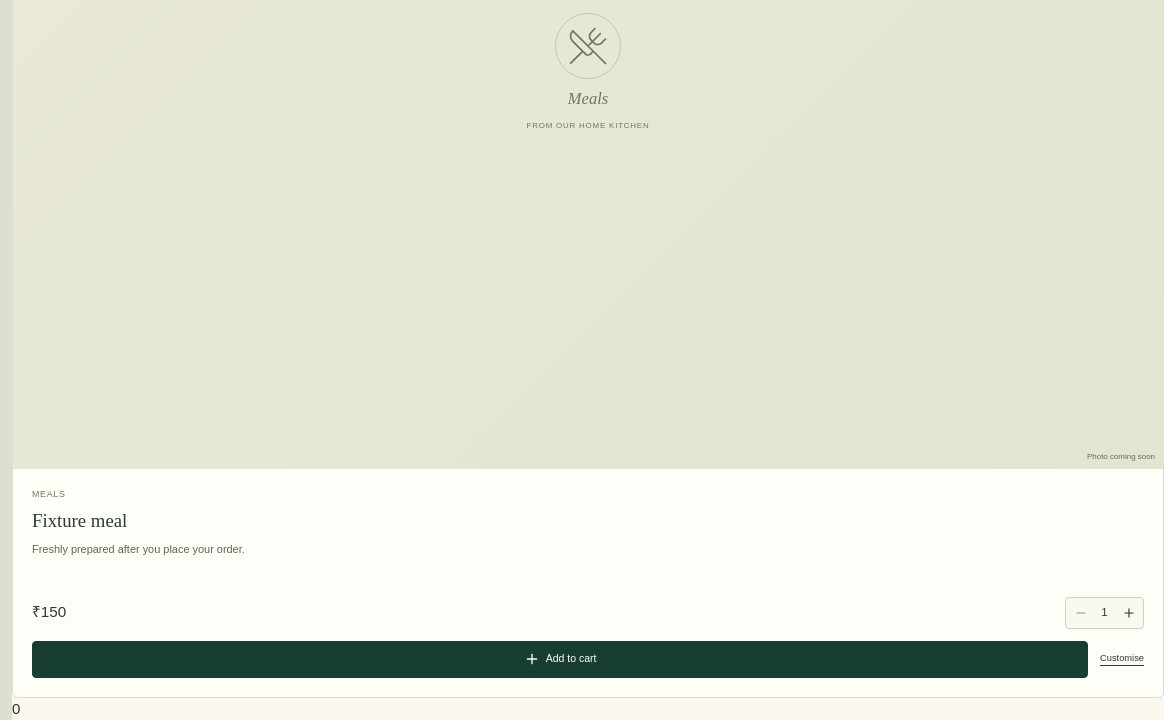
Test: adds selected quantities and persists a cart without a stored price
The width and height of the screenshot is (1164, 720).
(page scrolled)
Click the button named "Increase Fixture meal quantity" at (1128, 613), box [1114,598,1143,628]
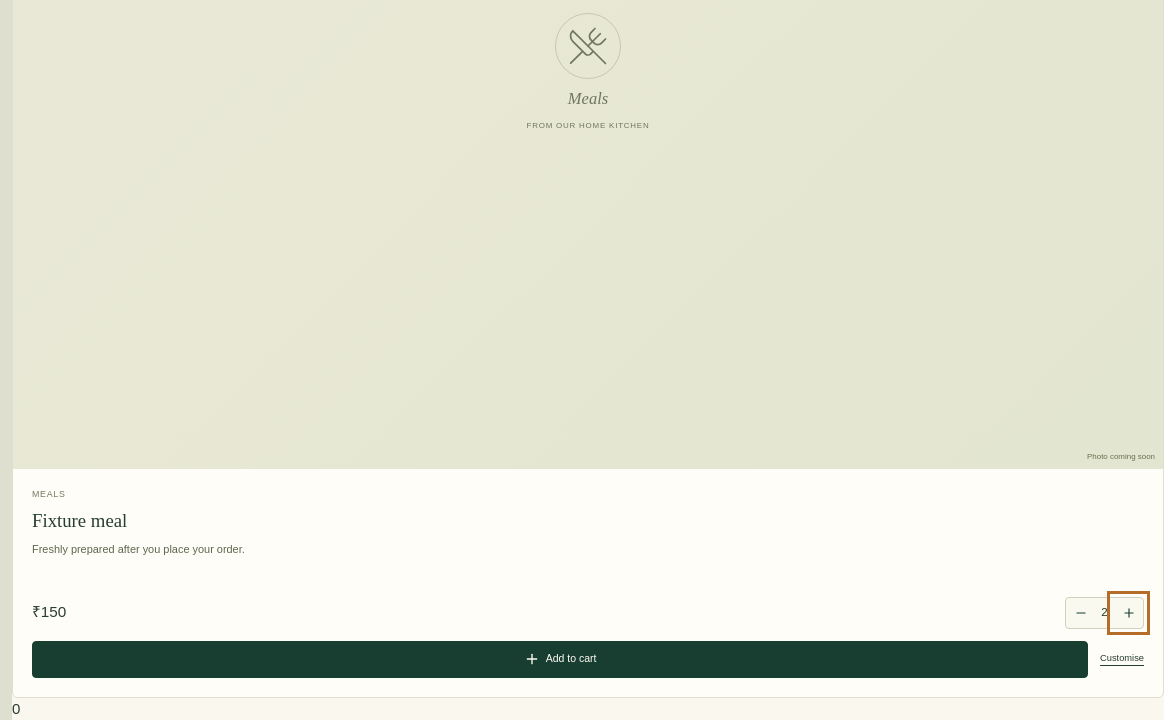
Click the button "Add to cart" at (560, 659), box [32,641,1088,678]
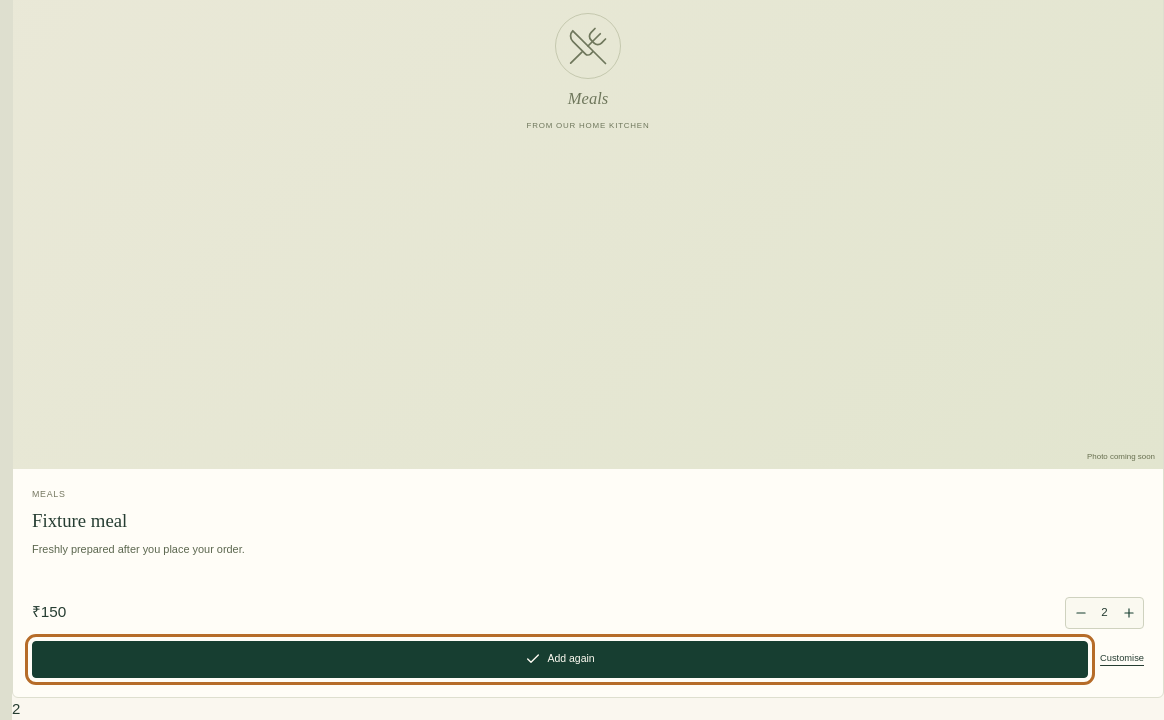
Expected: the text named "Cart count" reads "2", [12,700,20,717]
